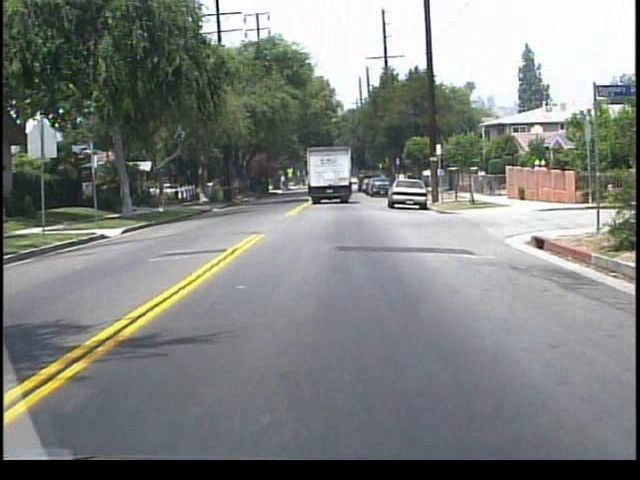person: (475, 166, 488, 196)
